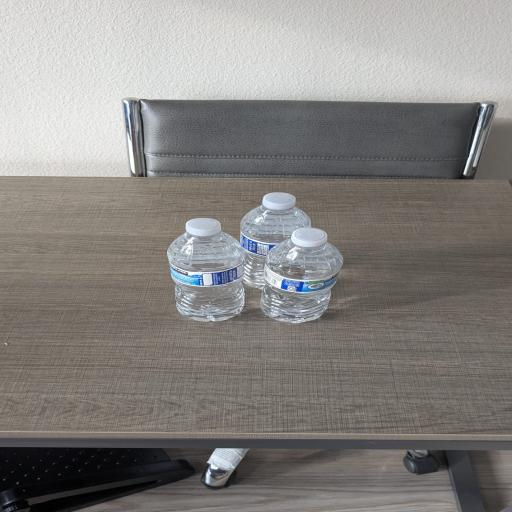waterbottle: (168, 218, 244, 321), (261, 229, 343, 323), (241, 193, 310, 288)
